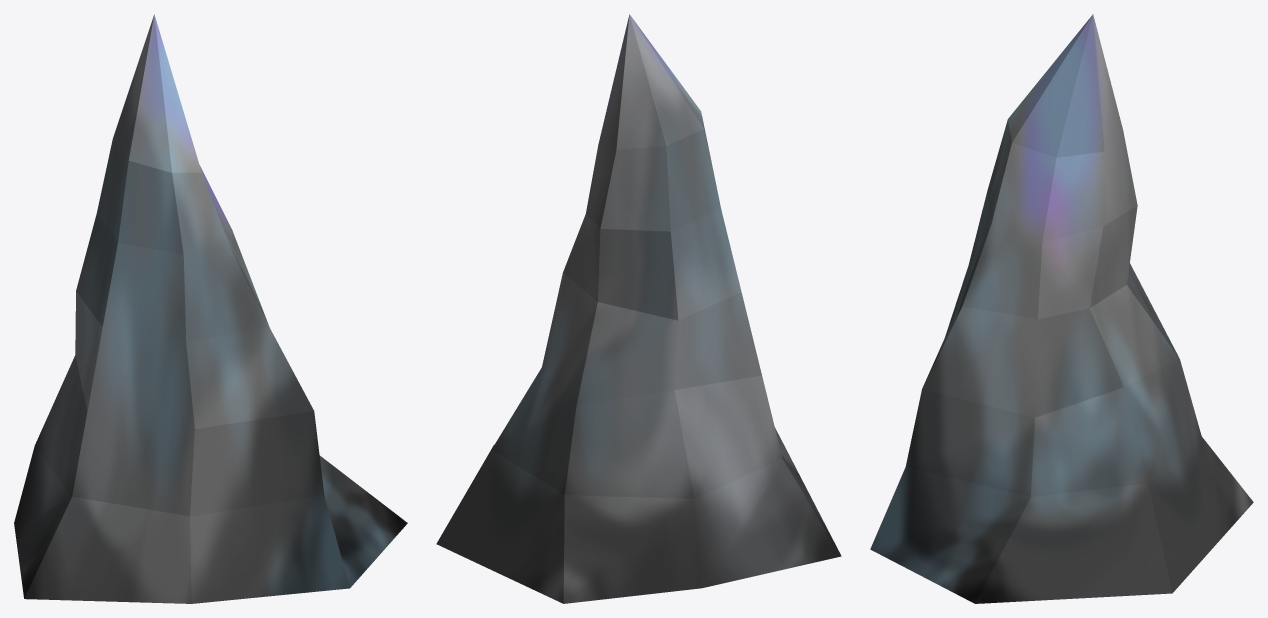
Rendered from Mountain7.fbx.
The picture shows the model from 3 angles, left to right: view 1: azimuth 30°, elevation 25°; view 2: azimuth 150°, elevation 25°; view 3: azimuth 270°, elevation 25°; orthographic projection. The views are drawn at different scales.
Parts seen in each view (by area): view 1: Mountain7; view 2: Mountain7; view 3: Mountain7.
Part boxes in pixels (x1,y1,x2,y2): Mountain7: (14, 14, 407, 603); Mountain7: (436, 14, 841, 603); Mountain7: (870, 14, 1253, 603).
Size of the model in its own units: 2842 by 3930 by 2682.
